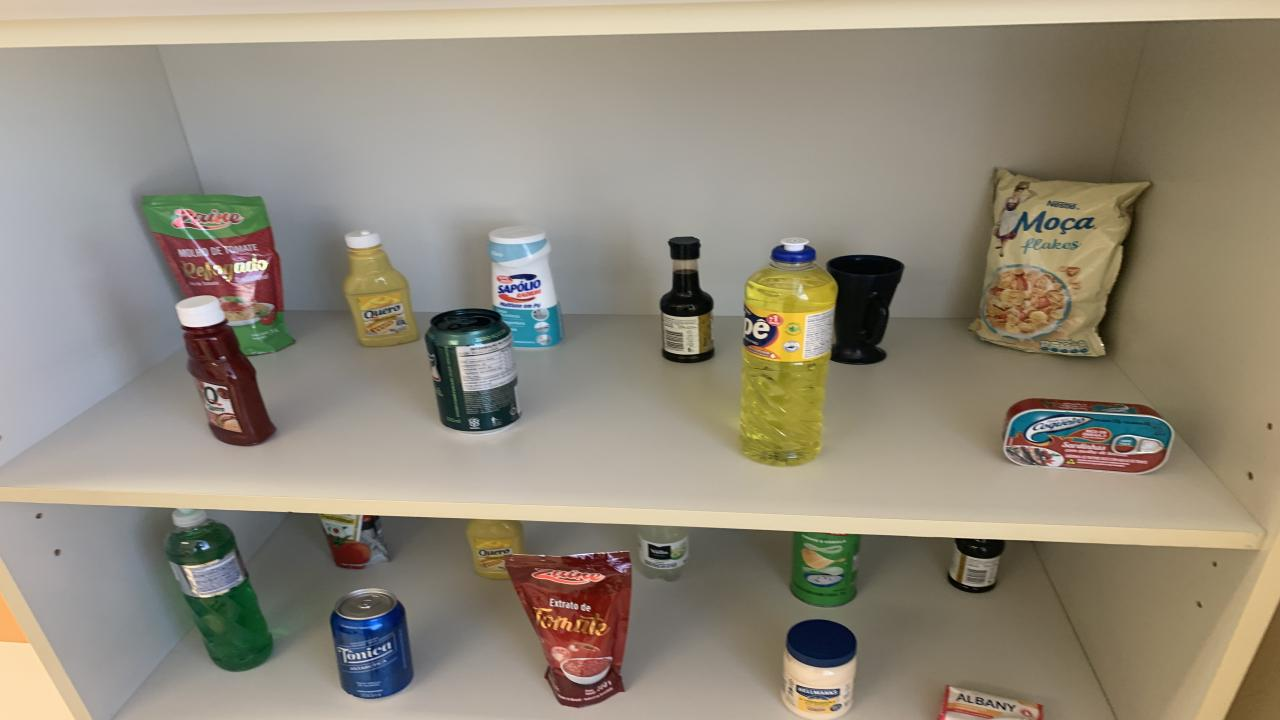Cleaner-Cleanup_Items: (490, 227, 562, 349)
Detergent-Cleanup_Items: (740, 238, 838, 467), (165, 508, 272, 671)
English_Sauce-Pantry_Items: (660, 236, 715, 364), (948, 538, 1005, 591)
Flakes-Snacks: (970, 169, 1150, 356)
Guarana_Can-Drinks: (425, 309, 520, 433)
Ketchup-Pantry_Items: (175, 294, 275, 446)
Mayonnaise-Pantry_Items: (782, 619, 858, 720)
Mustard-Pantry_Items: (342, 231, 420, 347), (465, 519, 525, 579)
Pringles-Snacks: (790, 532, 860, 608)
Soap-Cleanup_Items: (938, 686, 1042, 720)
Soda-Drinks: (638, 525, 690, 581)
Tomato_Sauce-Pantry_Items: (142, 195, 292, 354), (505, 551, 630, 707), (320, 514, 390, 568)
Tonic-Drinks: (330, 589, 412, 698)
Tuna_Can-Pantry_Items: (1002, 398, 1175, 474)
